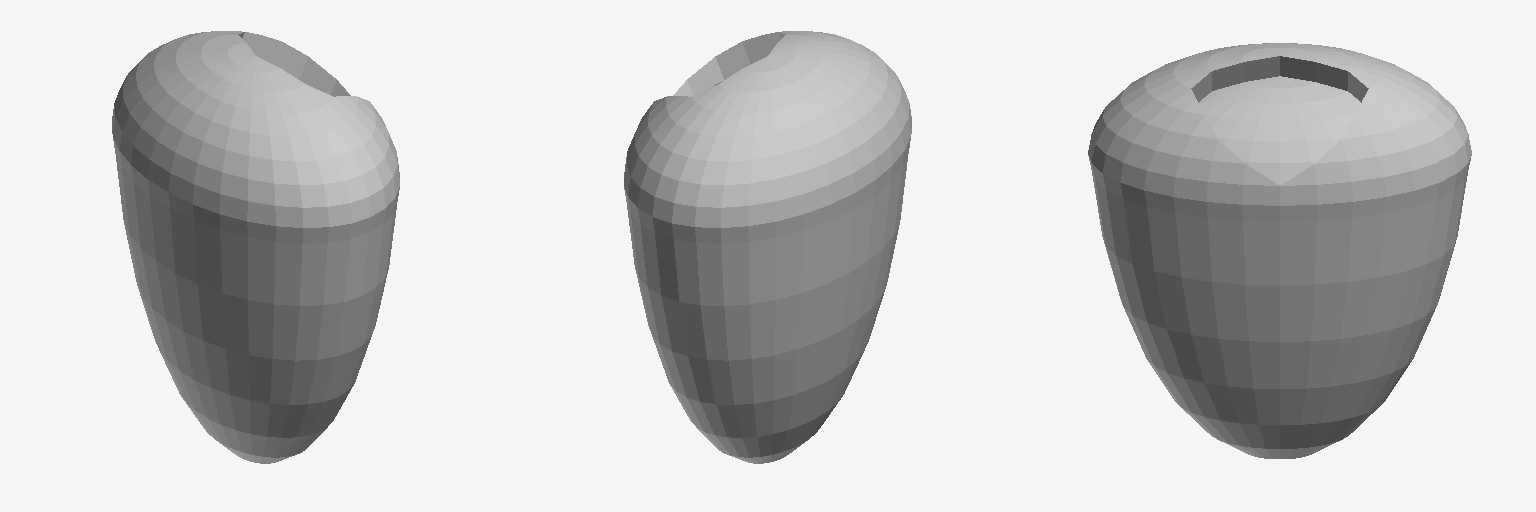
File: pilot_coat.obj
3 renders of one model, left to right at view 1: azimuth 30°, elevation 25°; view 2: azimuth 150°, elevation 25°; view 3: azimuth 270°, elevation 25°, orthographic.
Parts seen in each view (by area): view 1: Sphere.002; view 2: Sphere.002; view 3: Sphere.002.
Boxes of the visible parts, box(x1,y1,x2,y2) form: Sphere.002: box(112, 31, 399, 463); Sphere.002: box(624, 31, 911, 463); Sphere.002: box(1088, 43, 1471, 458).
Size of the model in its own units: 0.727 by 1.28 by 1.12.